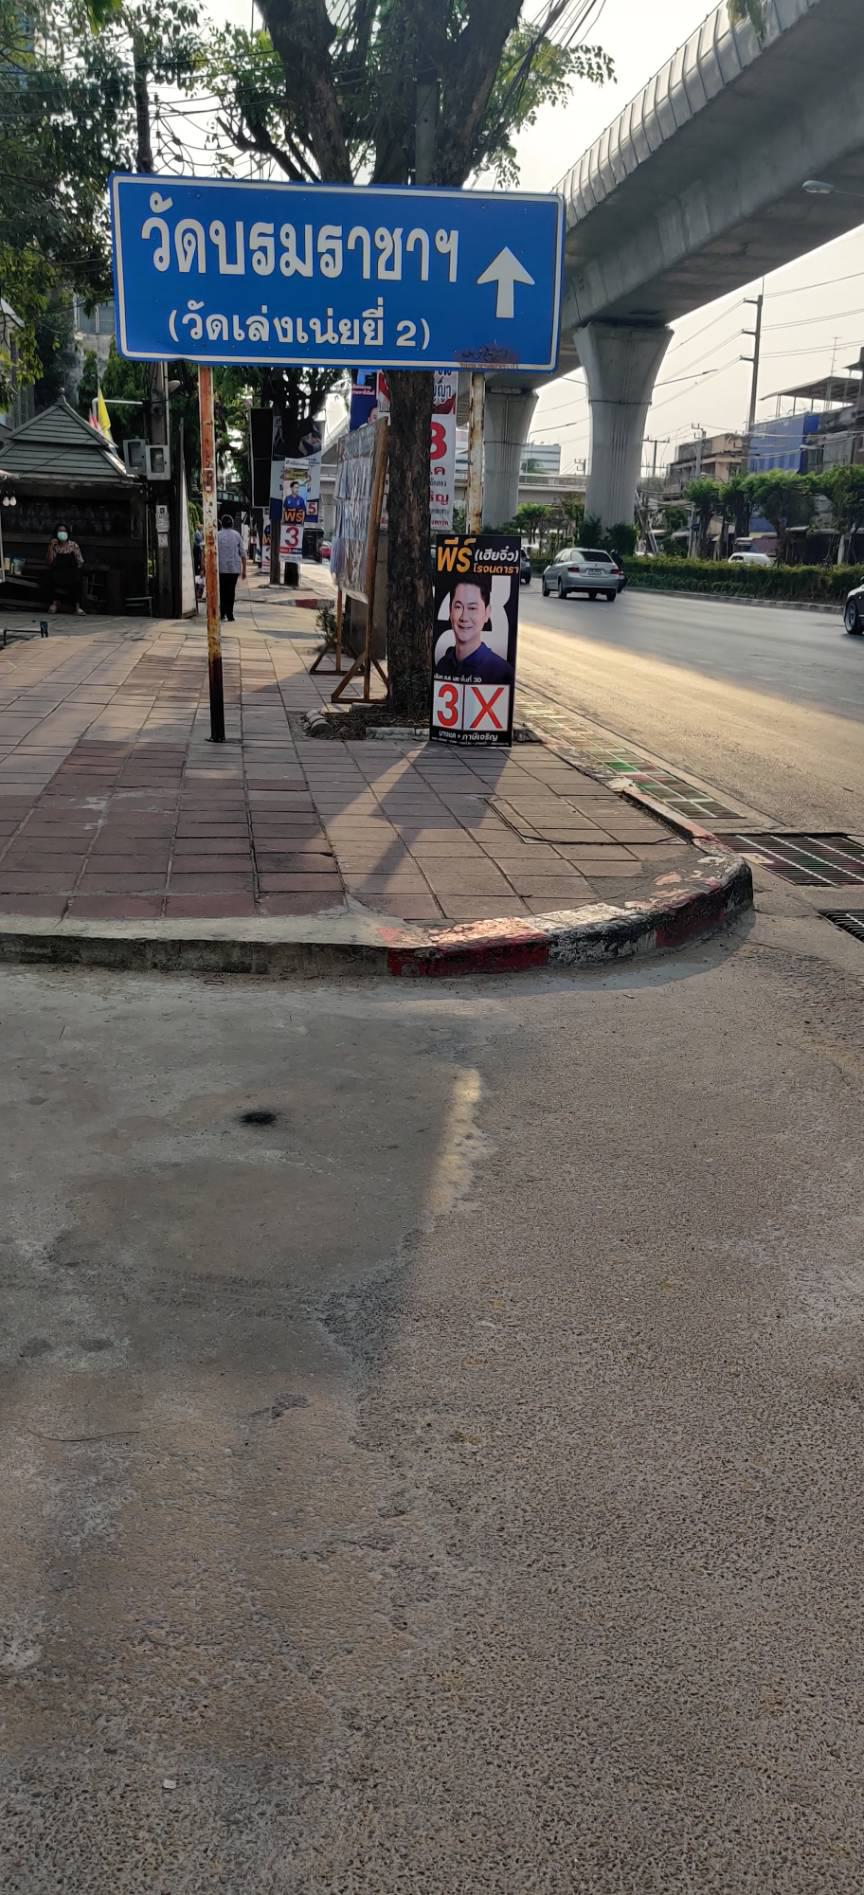Banner: (430, 529, 523, 744)
